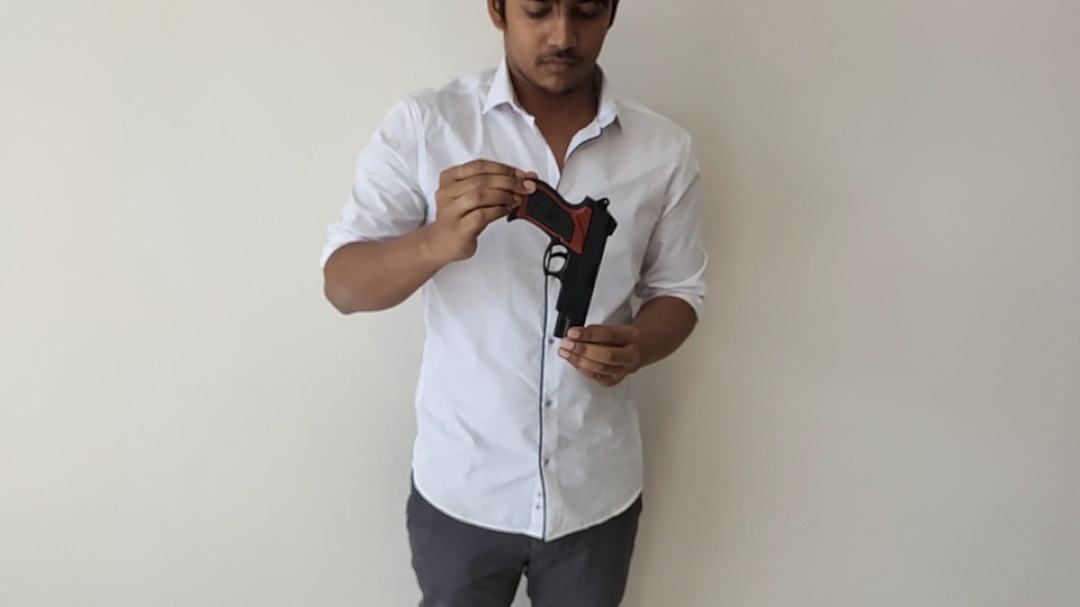gun: (203, 83, 908, 554)
